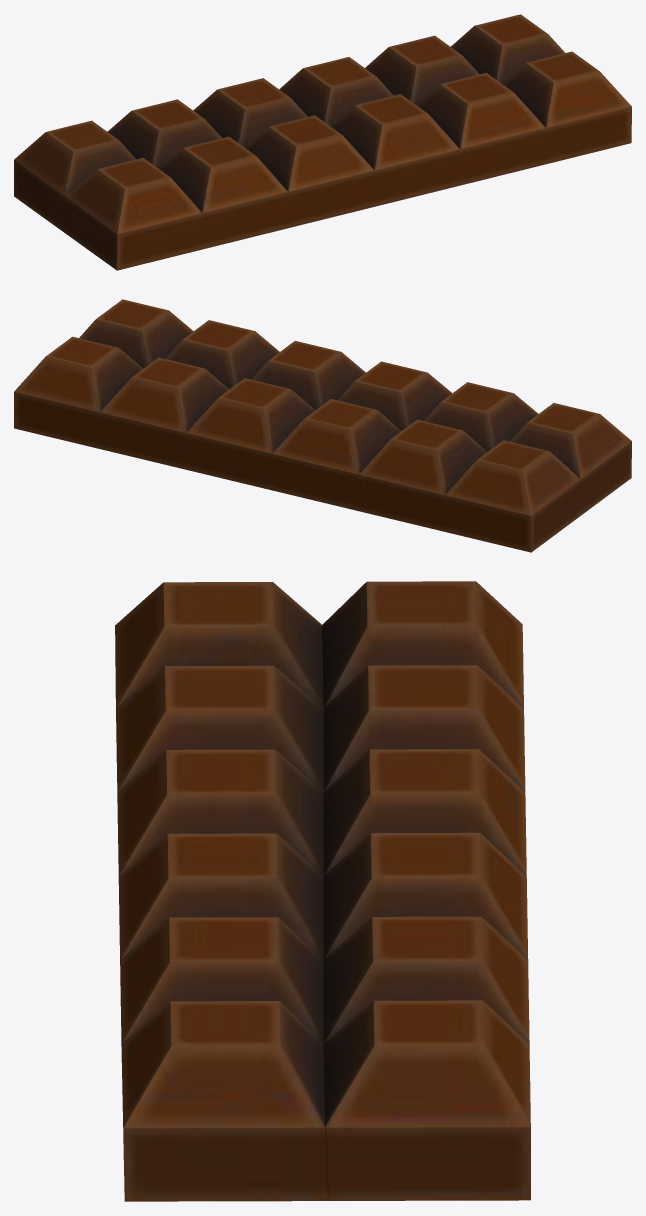
Rendered from chocolate.glb.
The picture shows the model from 3 angles, top to bottom: view 1: azimuth 30°, elevation 25°; view 2: azimuth 150°, elevation 25°; view 3: azimuth 270°, elevation 25°; orthographic projection. The views are drawn at different scales.
Visible parts, largest first — view 1: Chocolate; view 2: Chocolate; view 3: Chocolate.
Part boxes in pixels (left/top/right/bottom): Chocolate: left=14, top=14, right=631, bottom=270; Chocolate: left=14, top=299, right=631, bottom=552; Chocolate: left=115, top=581, right=530, bottom=1201.
Size of the model in its own units: 0.2331 by 0.0293 by 0.0813.
1 material, 1 textured.
